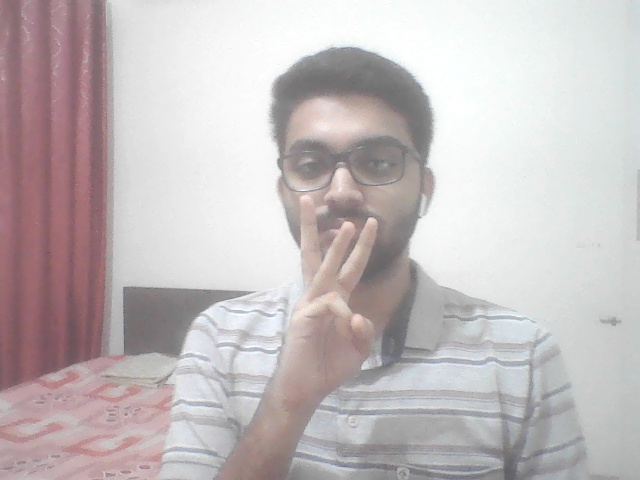water: (259, 185, 408, 417)
